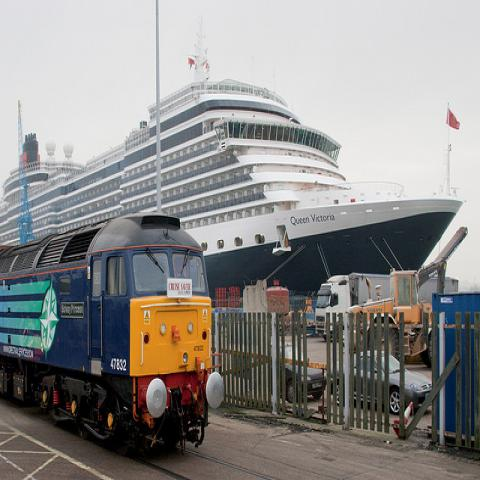car: (327, 350, 402, 414), (280, 339, 326, 403), (390, 353, 432, 411)
truck: (314, 272, 460, 340)
